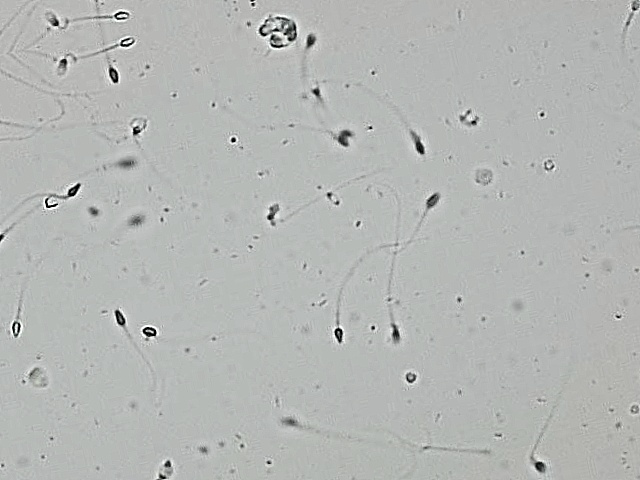sperm: (144, 23, 282, 122), (324, 96, 394, 262), (136, 72, 268, 154), (270, 191, 364, 293), (200, 142, 322, 200), (228, 365, 329, 431), (320, 27, 390, 119), (488, 352, 546, 434), (90, 260, 136, 349), (352, 160, 418, 222), (30, 188, 110, 234), (100, 290, 180, 332), (10, 138, 96, 174), (108, 84, 148, 156), (0, 63, 36, 129), (40, 22, 106, 48), (0, 162, 29, 220), (88, 449, 152, 470), (281, 9, 309, 54), (0, 63, 20, 117), (0, 262, 19, 312), (32, 170, 66, 192), (37, 38, 64, 64), (95, 34, 111, 68), (301, 67, 319, 97), (601, 0, 627, 18), (313, 216, 327, 230)
